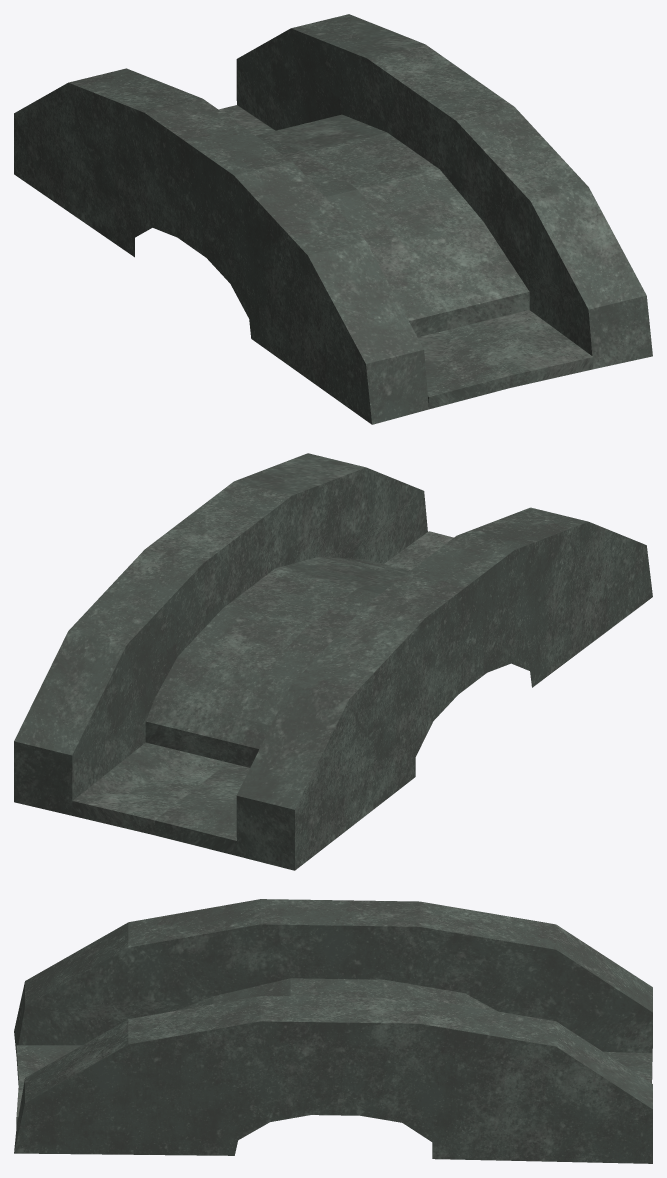
3 views of the same model, one above another, from view 1: azimuth 30°, elevation 25°; view 2: azimuth 150°, elevation 25°; view 3: azimuth 270°, elevation 25° (orthographic). The views are drawn at different scales.
Visible parts, largest first — view 1: pCube1; view 2: pCube1; view 3: pCube1.
Part boxes in pixels (x1,y1,x2,y2): pCube1: (14,14,652,424); pCube1: (14,453,652,870); pCube1: (14,899,652,1163).
Bounding box in the file's own units: 5.91 × 3.22 × 13.06.
Materials: 1 (1 with a texture image).
